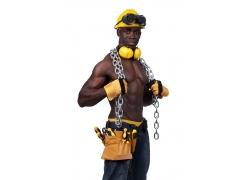helmet: (115, 9, 148, 30)
